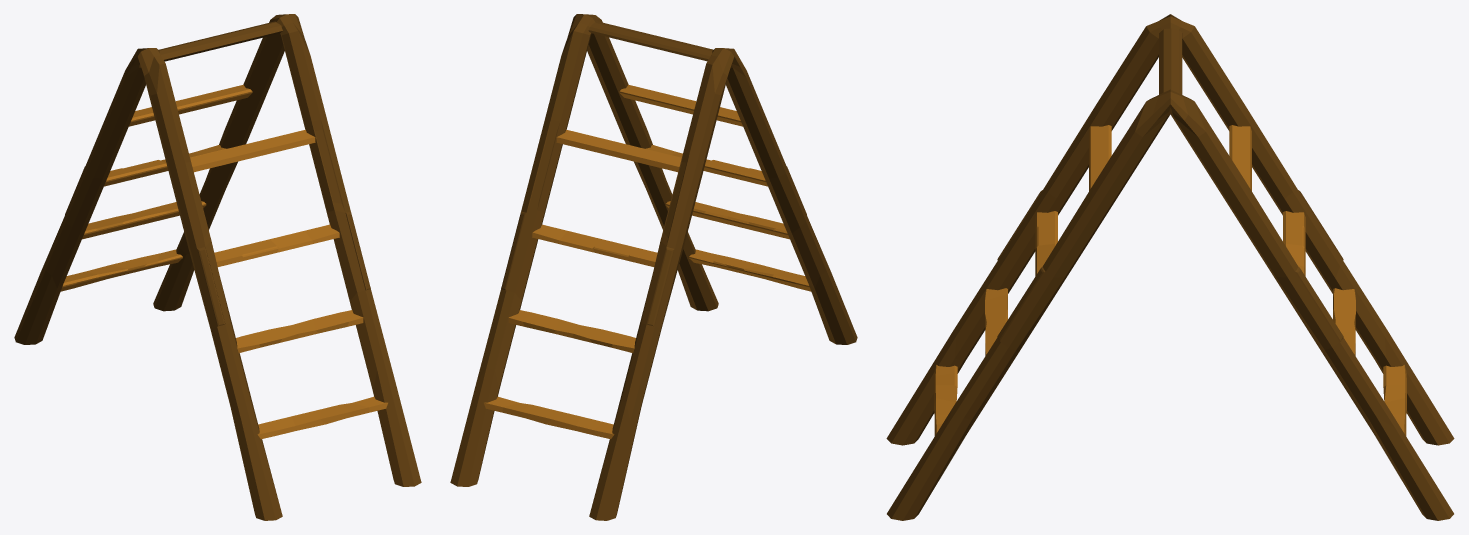
The model's file is ladder_4.fbx.
3 views of the same model, side by side, from view 1: azimuth 30°, elevation 25°; view 2: azimuth 150°, elevation 25°; view 3: azimuth 270°, elevation 25° (orthographic). The views are drawn at different scales.
Visible parts, largest first — view 1: Cylinder.001, Cube.010, Cube.011; view 2: Cylinder.001, Cube.010, Cube.011; view 3: Cylinder.001, Cube.010, Cube.011.
Part boxes in pixels (bbox=[...]): Cylinder.001: bbox=[14, 14, 421, 520]; Cube.010: bbox=[60, 84, 387, 439]; Cube.011: bbox=[158, 21, 282, 61]; Cylinder.001: bbox=[450, 14, 857, 520]; Cube.010: bbox=[484, 84, 811, 439]; Cube.011: bbox=[588, 21, 713, 61]; Cylinder.001: bbox=[886, 14, 1454, 520]; Cube.010: bbox=[934, 125, 1406, 435]; Cube.011: bbox=[1159, 28, 1182, 94].
Bounding box in the file's own units: 234 × 517 × 630.
